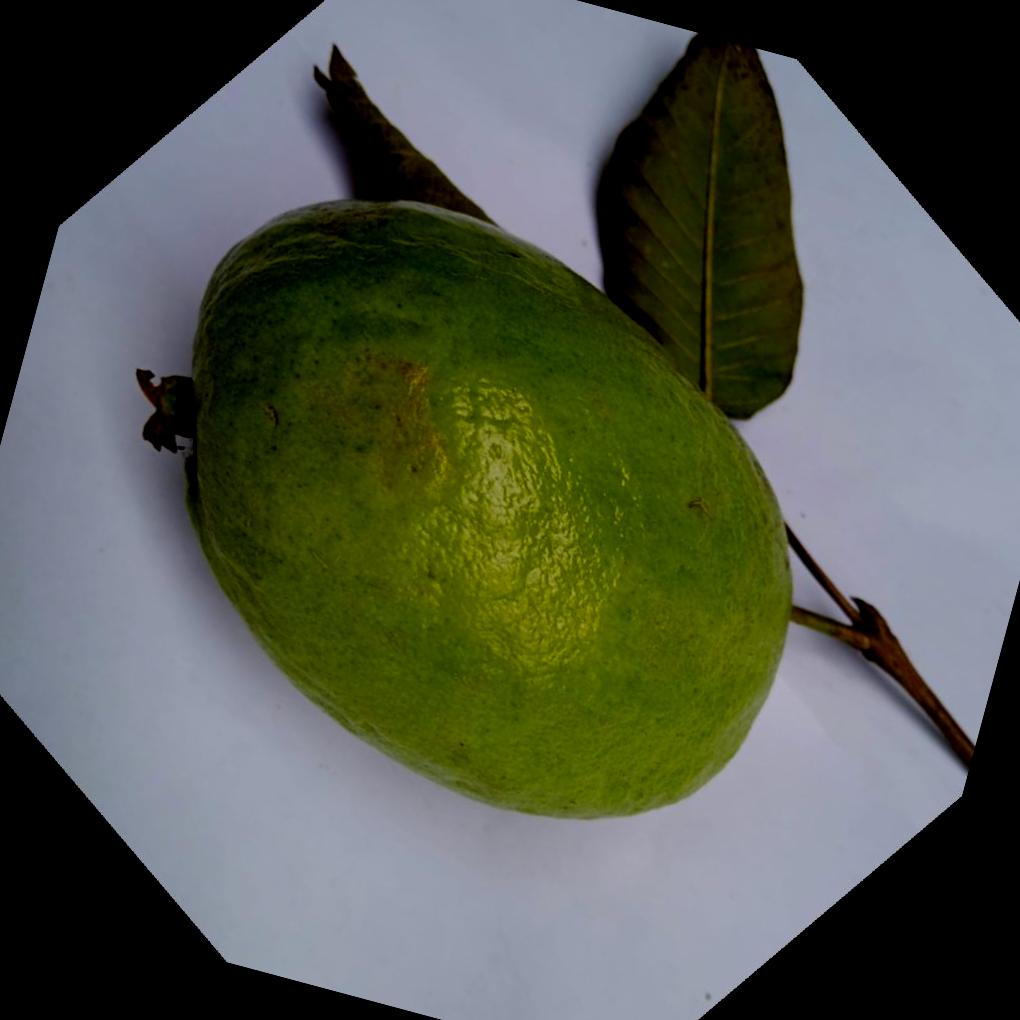FreshGuava: (144, 52, 795, 825)
